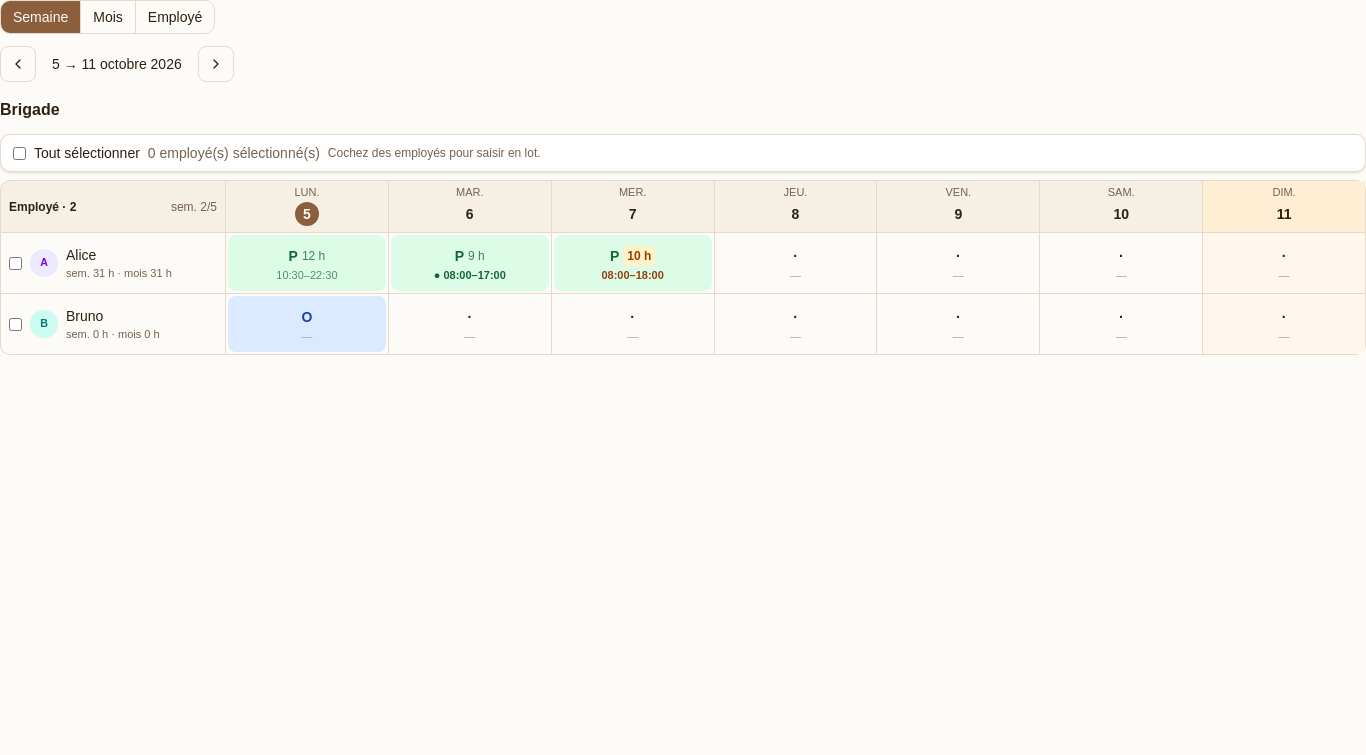
Scenario: vue Semaine › le nom est un bouton vers la vue Employé, l'avatar mène à la fiche
expect the link to "/employes/e1" is shown: met, box [30,249,58,277]
Step 1. Click the button "Alice" → (81,255), box [66,245,96,265]
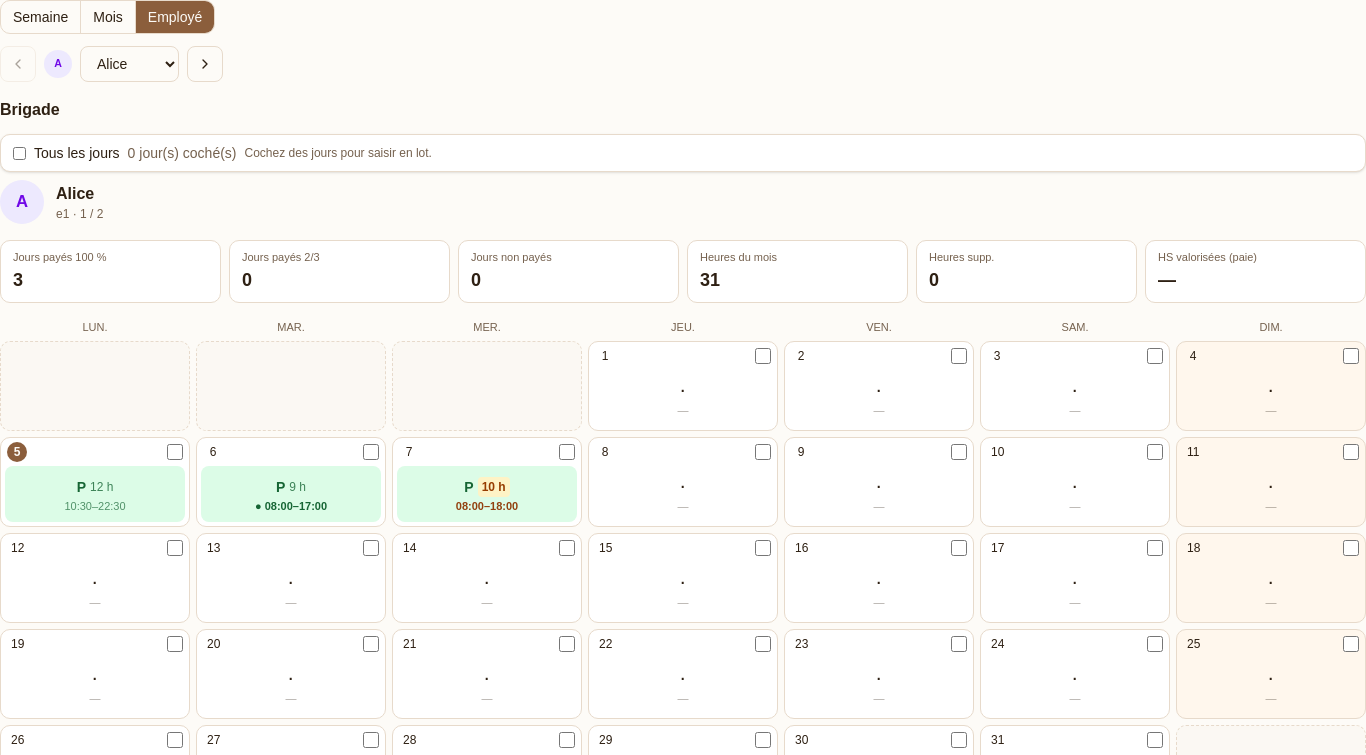
expect the element that starts with "Jours payés 100 %" is shown: met, box [0,240,1365,302]
